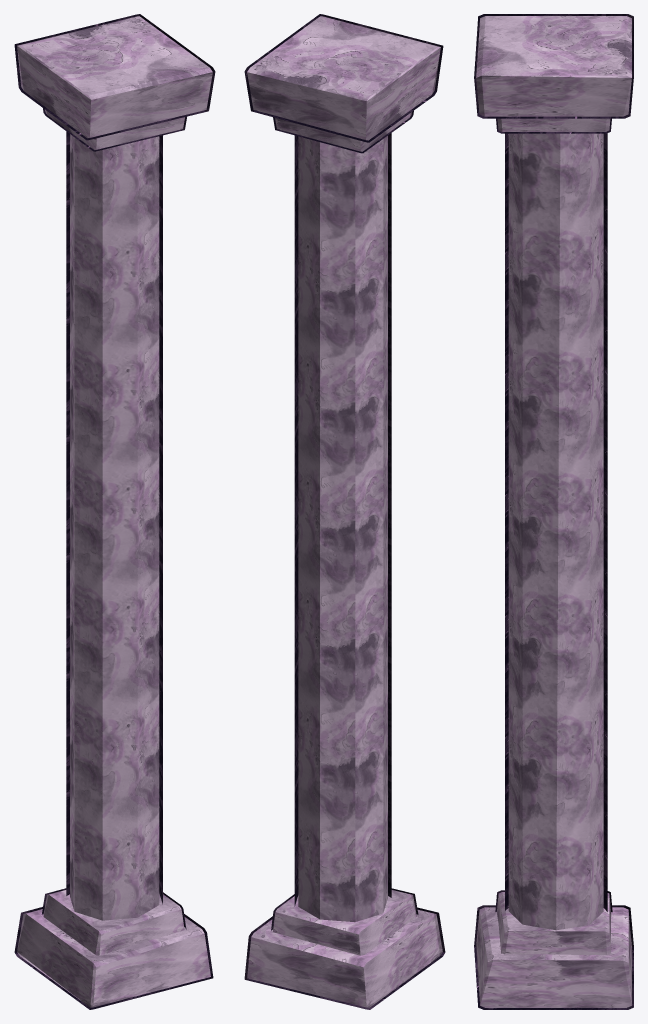
Rendered from Str_Column_04_Art.glb.
3 renders of one model, left to right at view 1: azimuth 30°, elevation 25°; view 2: azimuth 150°, elevation 25°; view 3: azimuth 270°, elevation 25°, orthographic. The views are drawn at different scales.
Parts seen in each view (by area): view 1: Str_Column_04_Art; view 2: Str_Column_04_Art; view 3: Str_Column_04_Art.
Boxes of the visible parts, x1,y1,x2,y2 form: Str_Column_04_Art: (14,14,215,1009); Str_Column_04_Art: (244,14,445,1009); Str_Column_04_Art: (474,14,633,1009).
Size of what is drawn, in the model's own units: 1.69 by 12 by 1.86.
Materials: 2 (2 with a texture image).
